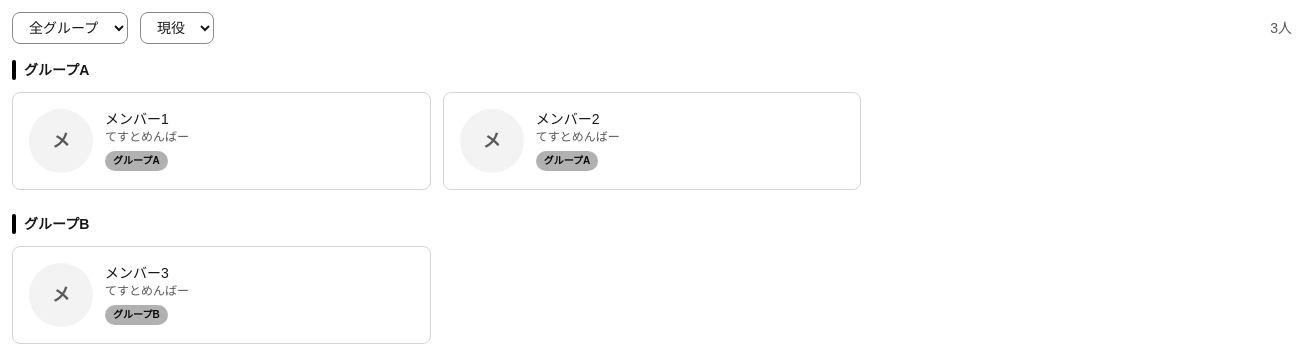
MemberBrowser のfilter変更時の件数表示 › グループ絞り込みで件数が変わると、同じstatus nodeの内容が更新される
Expected: the text "3人" is shown, [1270,18,1292,38]
Select "グループA" in the dropdown named "グループで絞り込み" at coordinates (70, 28), box [12,12,128,44]
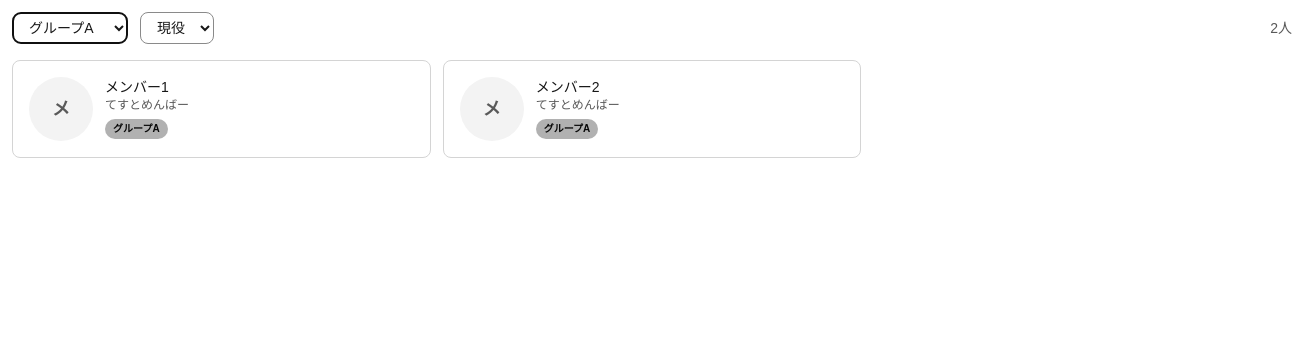
Result: the text "2人" is shown at [1270,18,1292,38]
